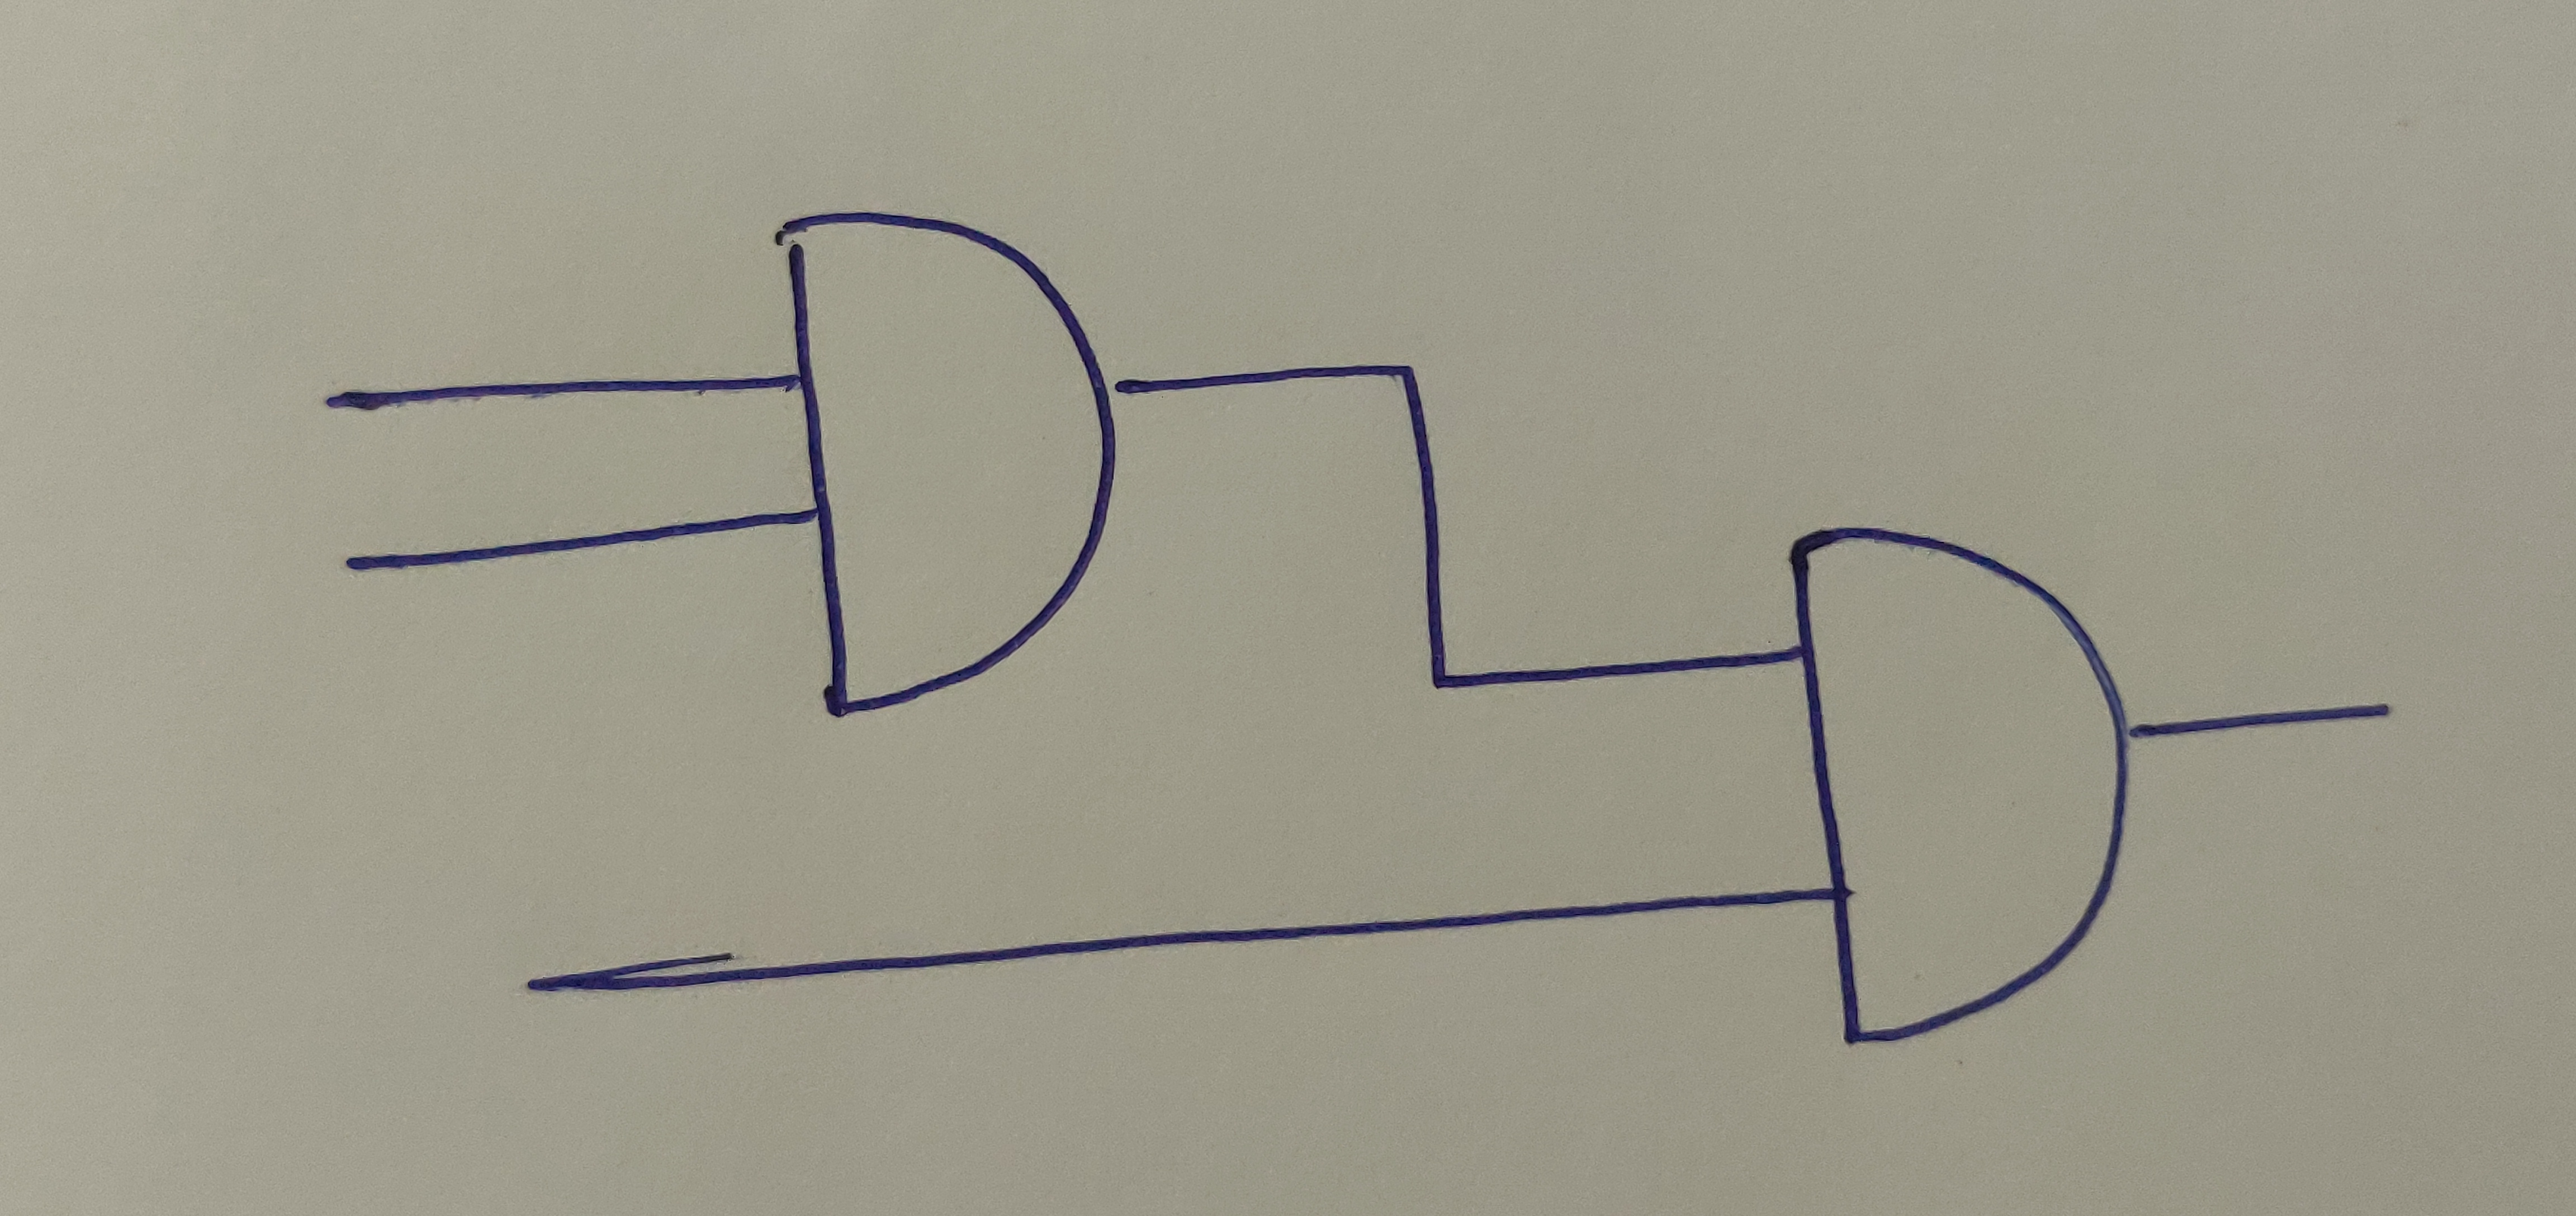and: (1778, 526, 2137, 1043), (774, 205, 1122, 718)
